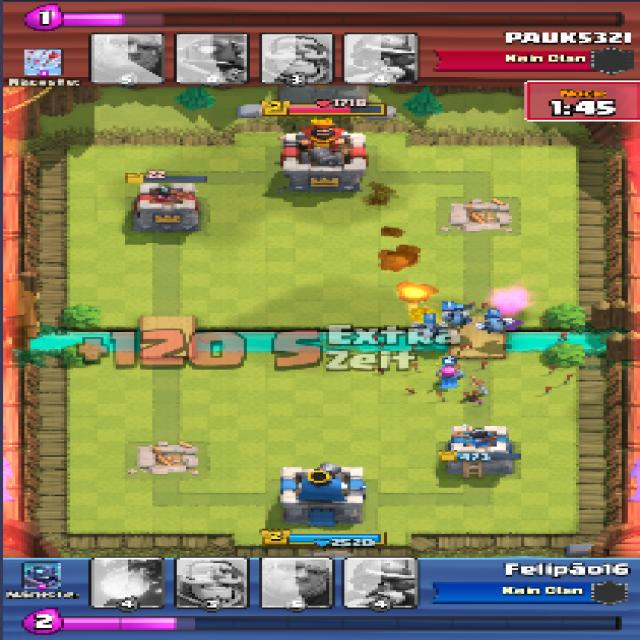Enemy-Archer: (432, 365, 467, 389)
Enemy-Fireball: (394, 281, 450, 326)
Player-Minion: (479, 315, 511, 333), (414, 322, 445, 339), (444, 310, 470, 326)
